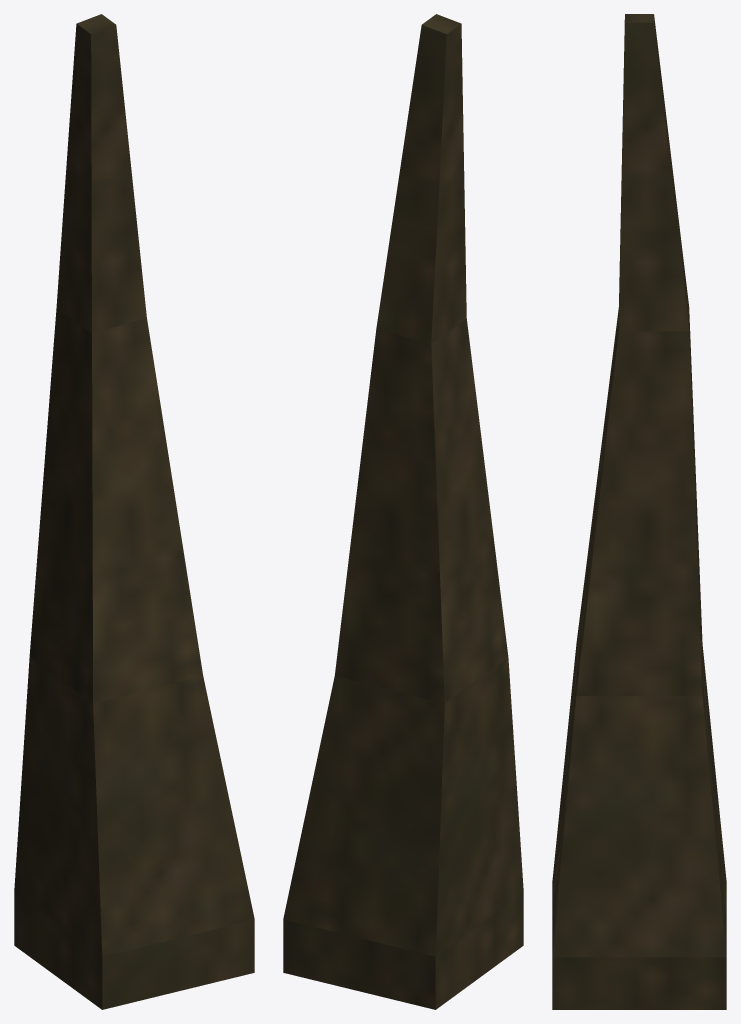
Rendered from wooden_spike_extra_large.obj.
The picture shows the model from 3 angles, left to right: view 1: azimuth 30°, elevation 25°; view 2: azimuth 150°, elevation 25°; view 3: azimuth 270°, elevation 25°; orthographic projection.
Parts seen in each view (by area): view 1: cuboid; view 2: cuboid; view 3: cuboid.
Boxes of the visible parts, x1=… form: cuboid: x1=14, y1=14, x2=254, y2=1009; cuboid: x1=283, y1=14, x2=523, y2=1009; cuboid: x1=552, y1=14, x2=726, y2=1009.
Size of the model in its own units: 0.75 by 4.45 by 0.75.
